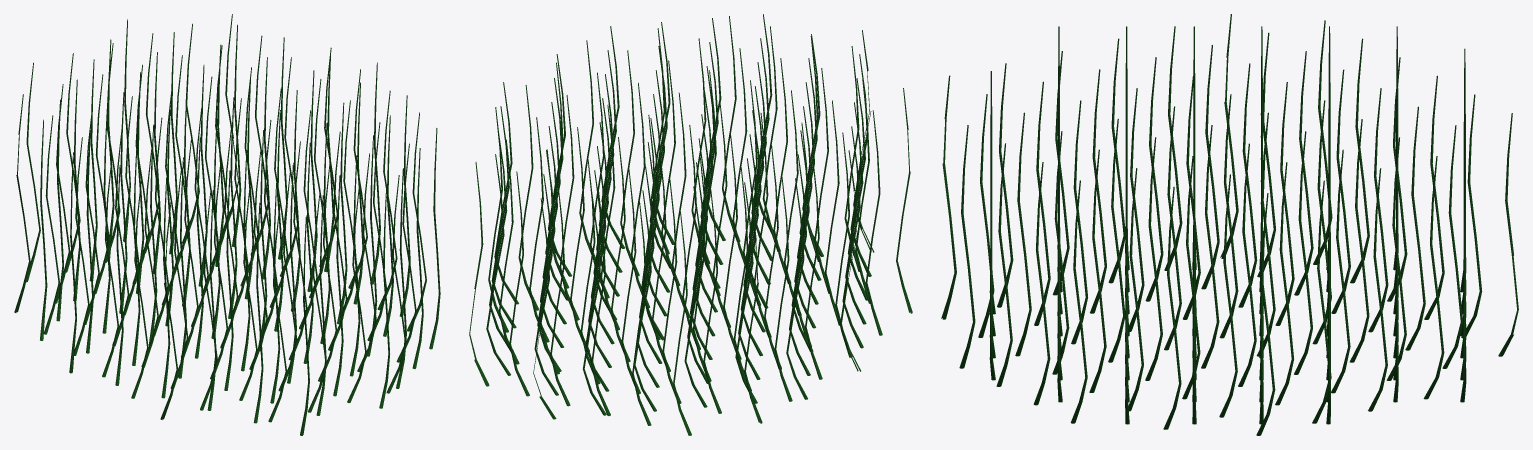
The model's file is Grass.fbx.
The picture shows the model from 3 angles, left to right: view 1: azimuth 30°, elevation 25°; view 2: azimuth 150°, elevation 25°; view 3: azimuth 270°, elevation 25°; orthographic projection. The views are drawn at different scales.
Visible parts, largest first — view 1: Cloner; view 2: Cloner; view 3: Cloner.
Boxes of the visible parts, left/top/right/bottom form: Cloner: left=14, top=14, right=440, bottom=435; Cloner: left=469, top=14, right=912, bottom=435; Cloner: left=941, top=14, right=1518, bottom=435.
Size of the model in its own units: 20 by 12.37 by 26.19.
